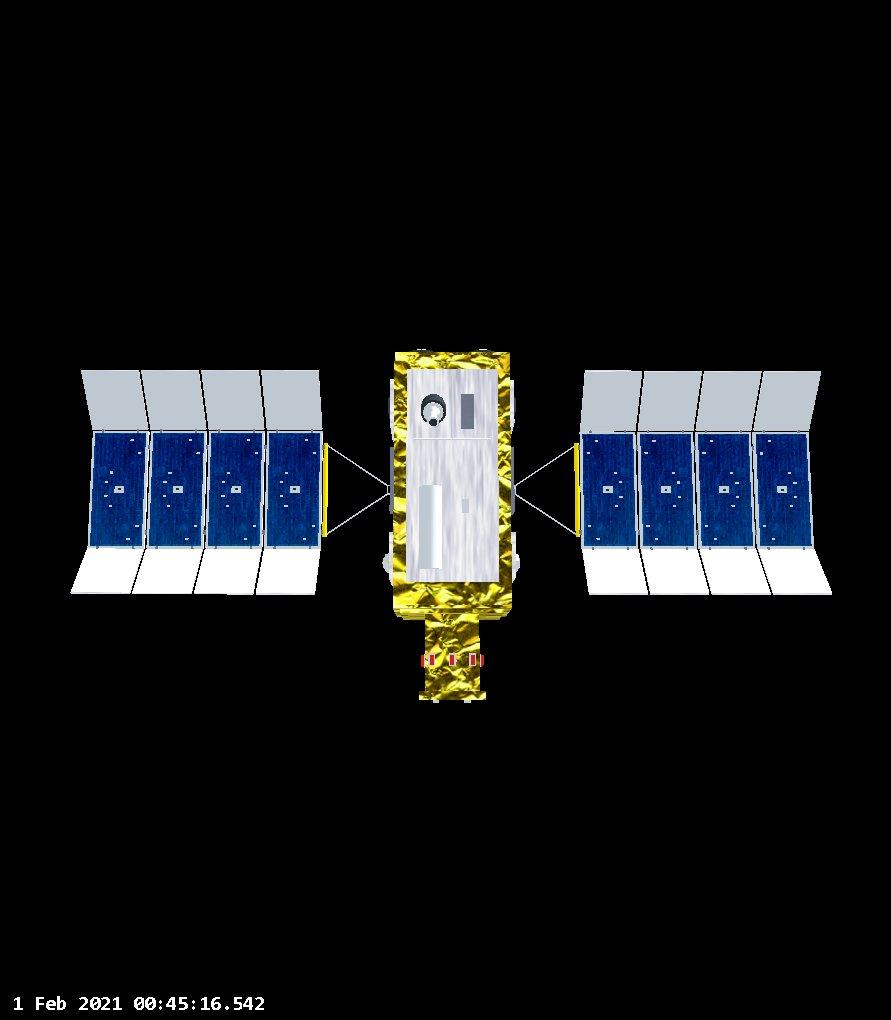body: (377, 337, 525, 709)
solar: (574, 363, 838, 598), (68, 364, 326, 602)
